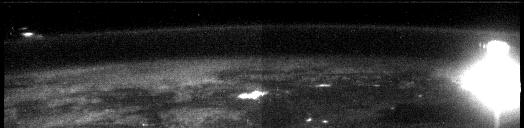positive: (483, 38, 511, 66)
